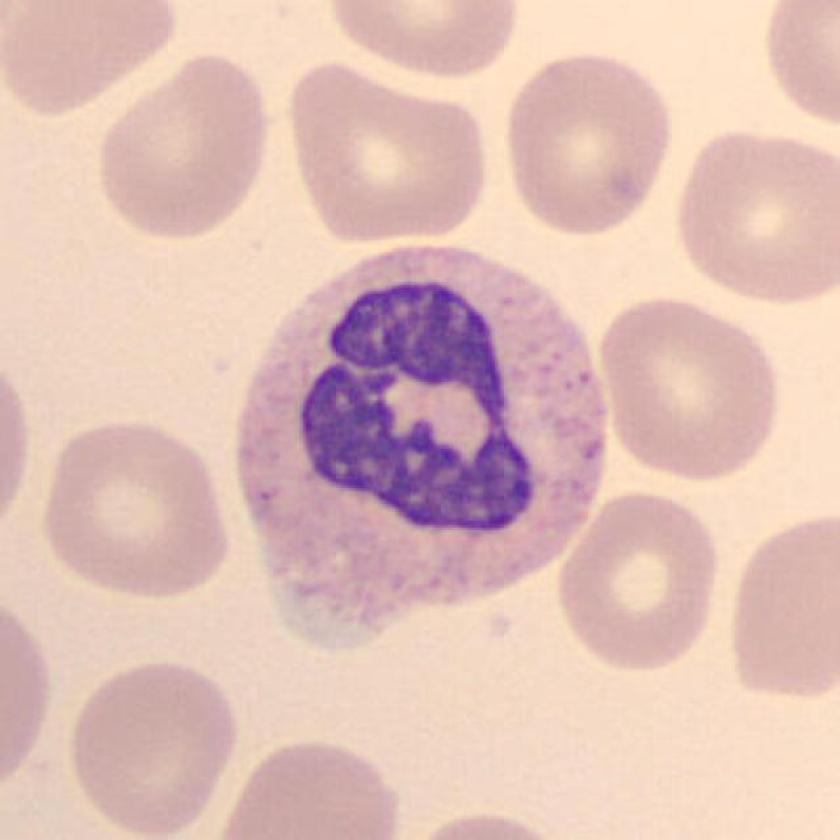neutrophil: (239, 249, 608, 647)
